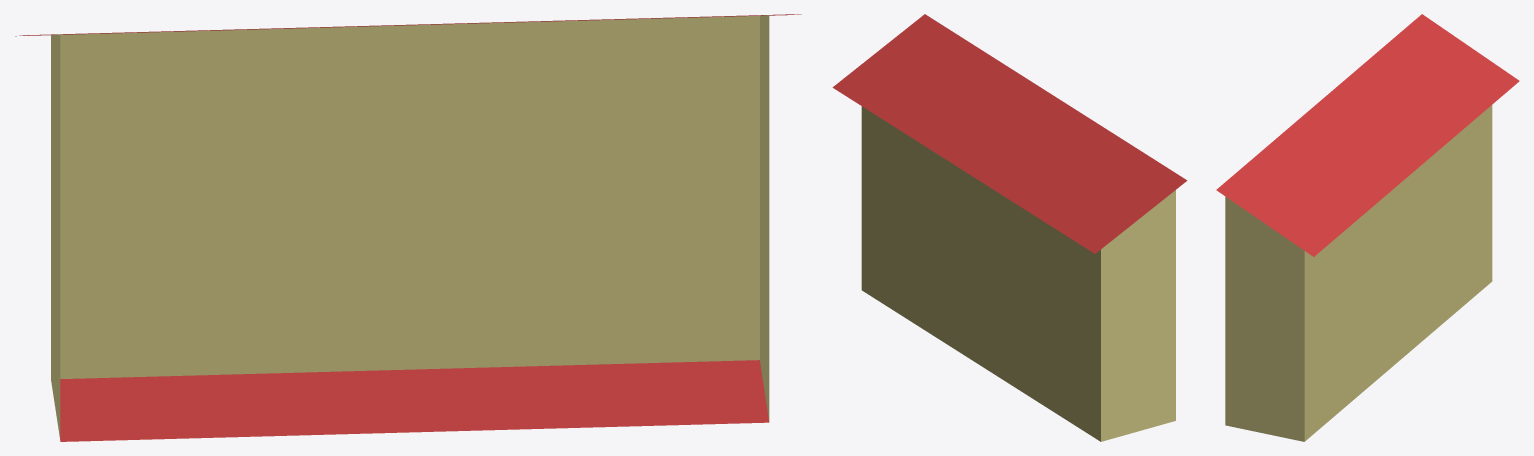
3 renders of one model, left to right at view 1: azimuth 30°, elevation 25°; view 2: azimuth 150°, elevation 25°; view 3: azimuth 270°, elevation 25°, orthographic. The views are drawn at different scales.
Size of the model in its own units: 11.26 by 7.36 by 6.5.
